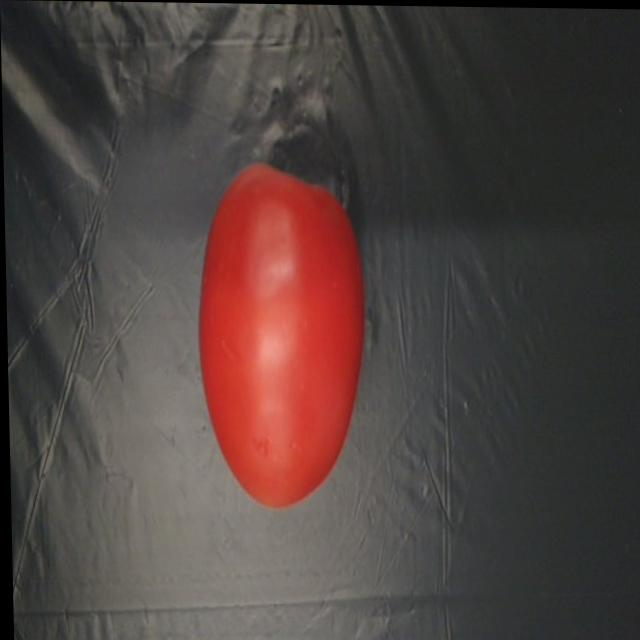kirmizi: (183, 160, 380, 509)
